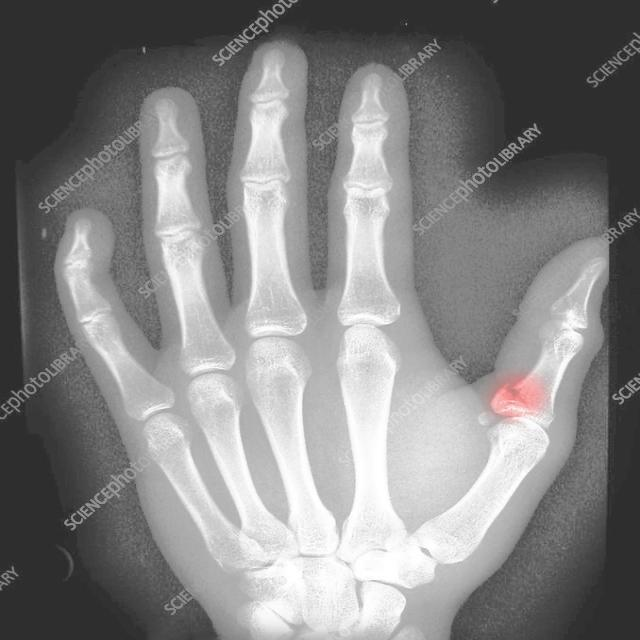Avlusion Fracture: (472, 390, 543, 435)
